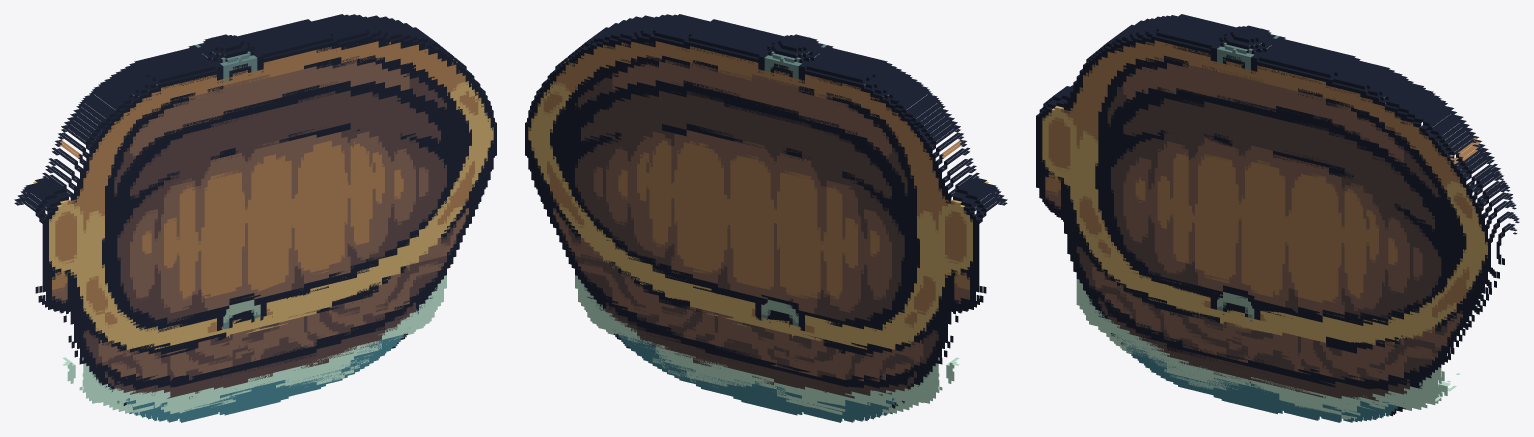
File: barco_arquipelago.glb
3 views of the same model, side by side, from view 1: azimuth 30°, elevation 25°; view 2: azimuth 150°, elevation 25°; view 3: azimuth 330°, elevation 25° (orthographic).
Visible parts, largest first — view 1: q0, q4, q5, q6, q1, q2, q3, q7; view 2: q0, q4, q5, q6, q1, q3, q7, q2; view 3: q0, q4, q5, q6, q1, q2, q7, q3.
Part boxes in pixels (x1,y1,x2,y2): q0: [14, 14, 496, 416]; q4: [68, 21, 496, 416]; q5: [62, 40, 446, 422]; q6: [14, 42, 446, 422]; q1: [78, 21, 437, 417]; q2: [93, 21, 423, 417]; q3: [89, 285, 438, 409]; q7: [63, 109, 443, 419]; q0: [525, 14, 1007, 418]; q4: [525, 21, 953, 414]; q5: [575, 38, 959, 422]; q6: [575, 42, 1007, 422]; q1: [577, 21, 944, 418]; q3: [585, 287, 932, 416]; q7: [575, 109, 954, 416]; q2: [597, 22, 927, 418]; q0: [1036, 14, 1519, 417]; q4: [1079, 21, 1519, 422]; q5: [1076, 15, 1444, 422]; q6: [1036, 40, 1450, 421]; q1: [1080, 40, 1448, 418]; q2: [1087, 101, 1444, 418]; q7: [1086, 113, 1460, 420]; q3: [1083, 281, 1431, 412].
Bounding box in the file's own units: 147 × 111 × 16.
1 material, 1 textured.
